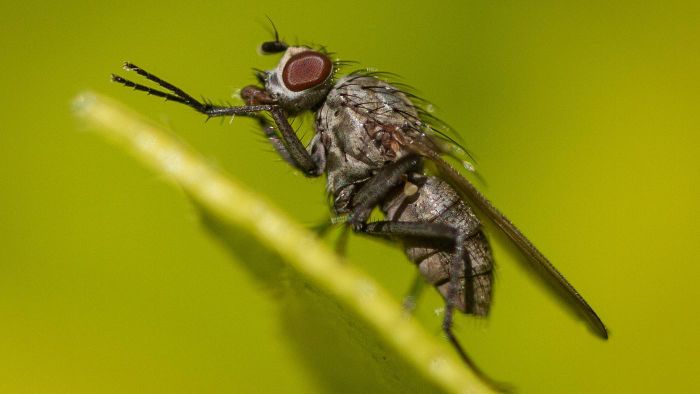house fly: (109, 11, 614, 393)
